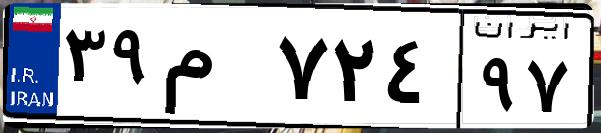2: (330, 28, 385, 110)
3: (57, 26, 110, 100)
4: (385, 28, 445, 110)
7: (270, 28, 330, 110), (525, 38, 570, 115)
9: (475, 38, 525, 113), (110, 28, 158, 98)
م: (158, 20, 270, 120)
